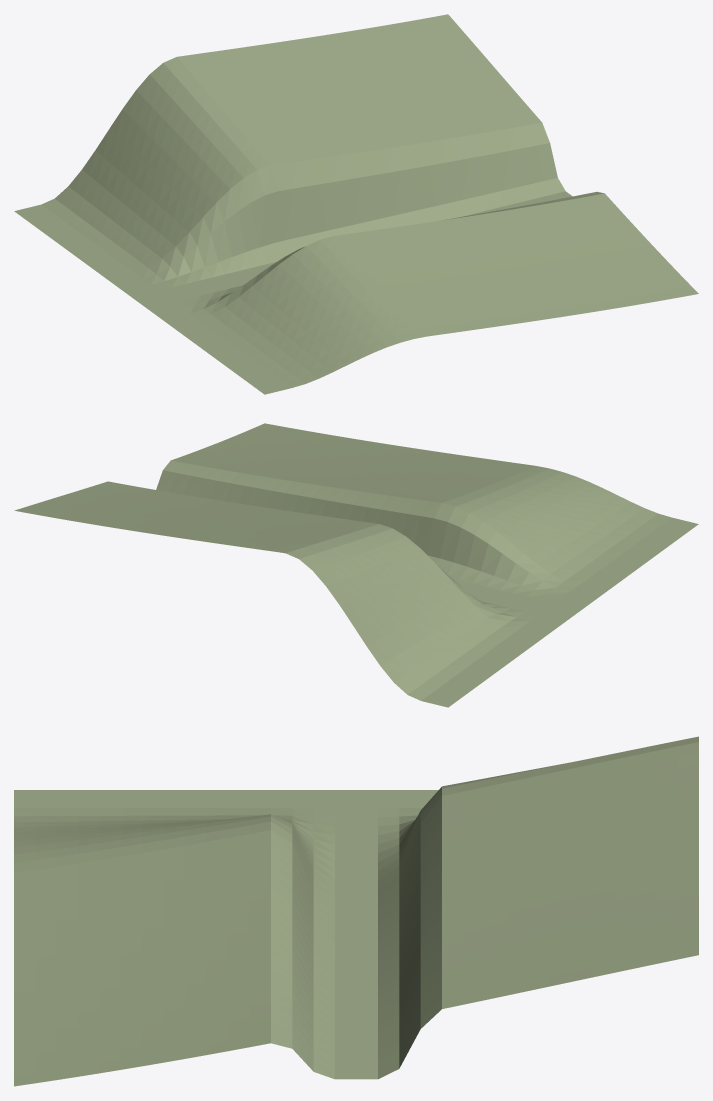
File: valley-3-2.glb
3 views of the same model, one above another, from view 1: azimuth 30°, elevation 25°; view 2: azimuth 150°, elevation 25°; view 3: azimuth 270°, elevation 25° (orthographic). The views are drawn at different scales.
Visible parts, largest first — view 1: valley-3-2; view 2: valley-3-2; view 3: valley-3-2.
Part boxes in pixels (left/top/right/bottom): valley-3-2: left=14, top=14, right=698, bottom=394; valley-3-2: left=14, top=423, right=698, bottom=707; valley-3-2: left=14, top=736, right=698, bottom=1086.
Size of the model in its own units: 256 by 67.48 by 256.
